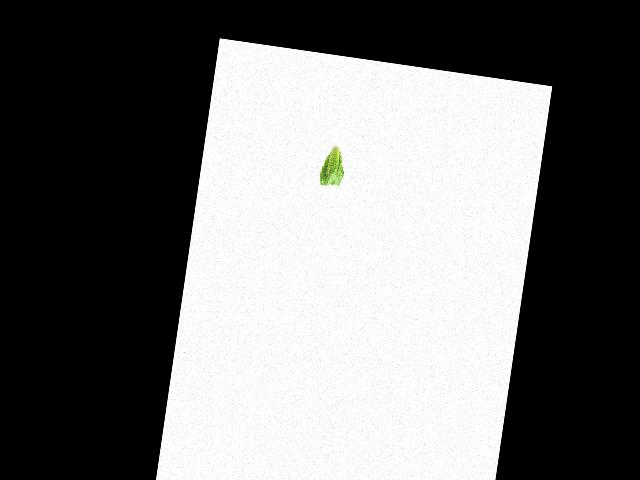lettuce: (314, 141, 351, 190)
